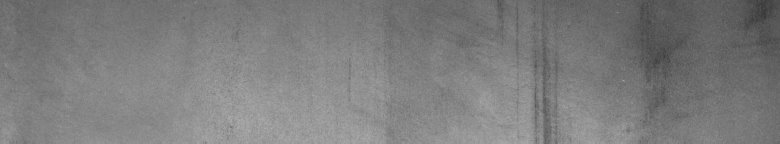ka: (498, 4, 560, 136)
